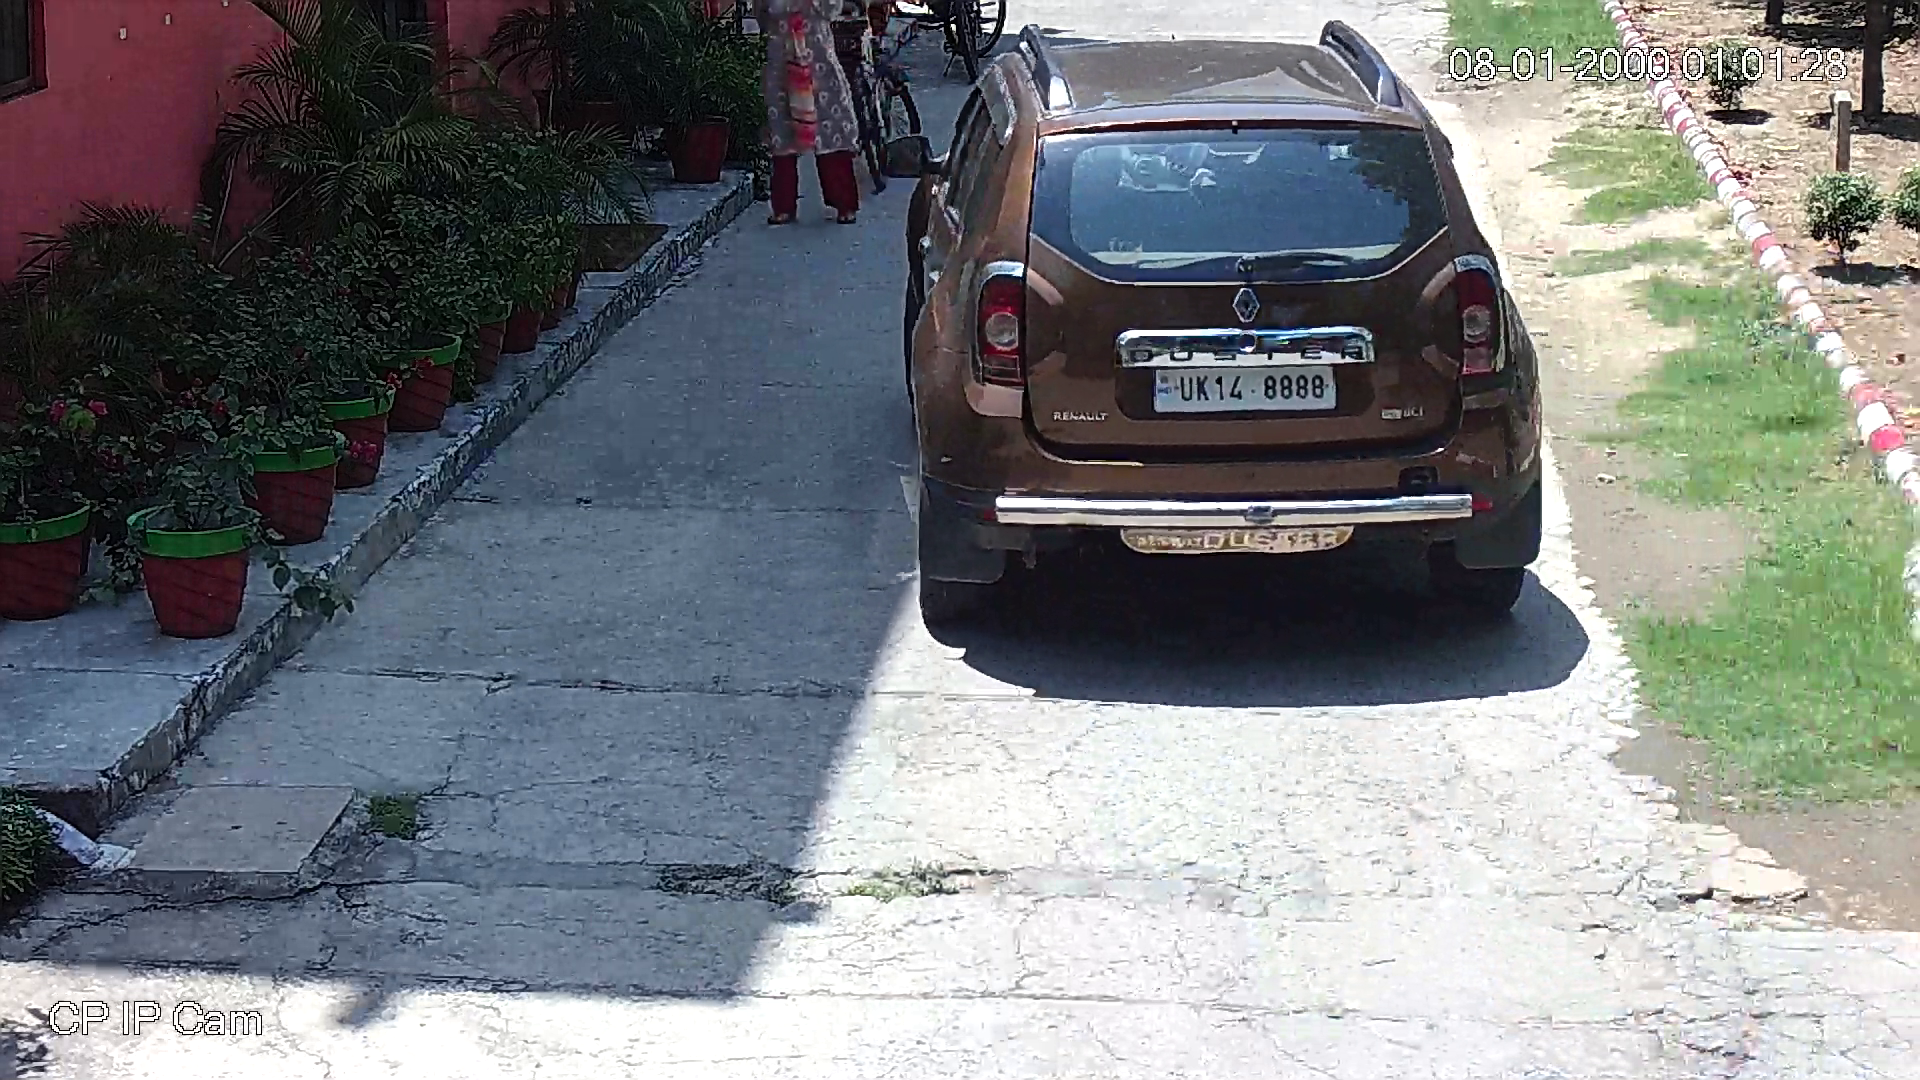plate: (1147, 362, 1342, 416)
